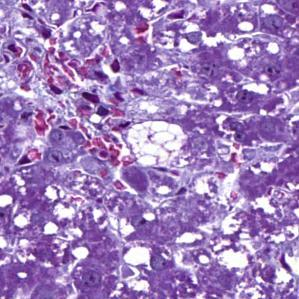ballooning: (125, 117, 189, 169)
